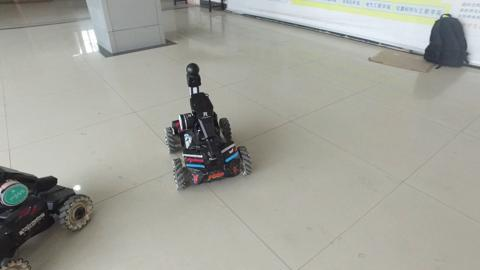bag: (419, 13, 470, 69)
chariot: (162, 61, 255, 198)
